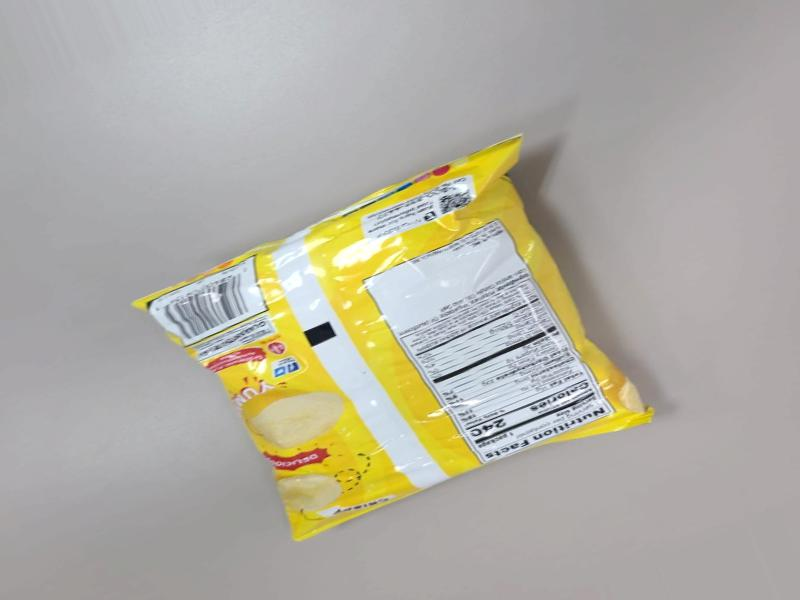lays: (248, 105, 684, 597)
